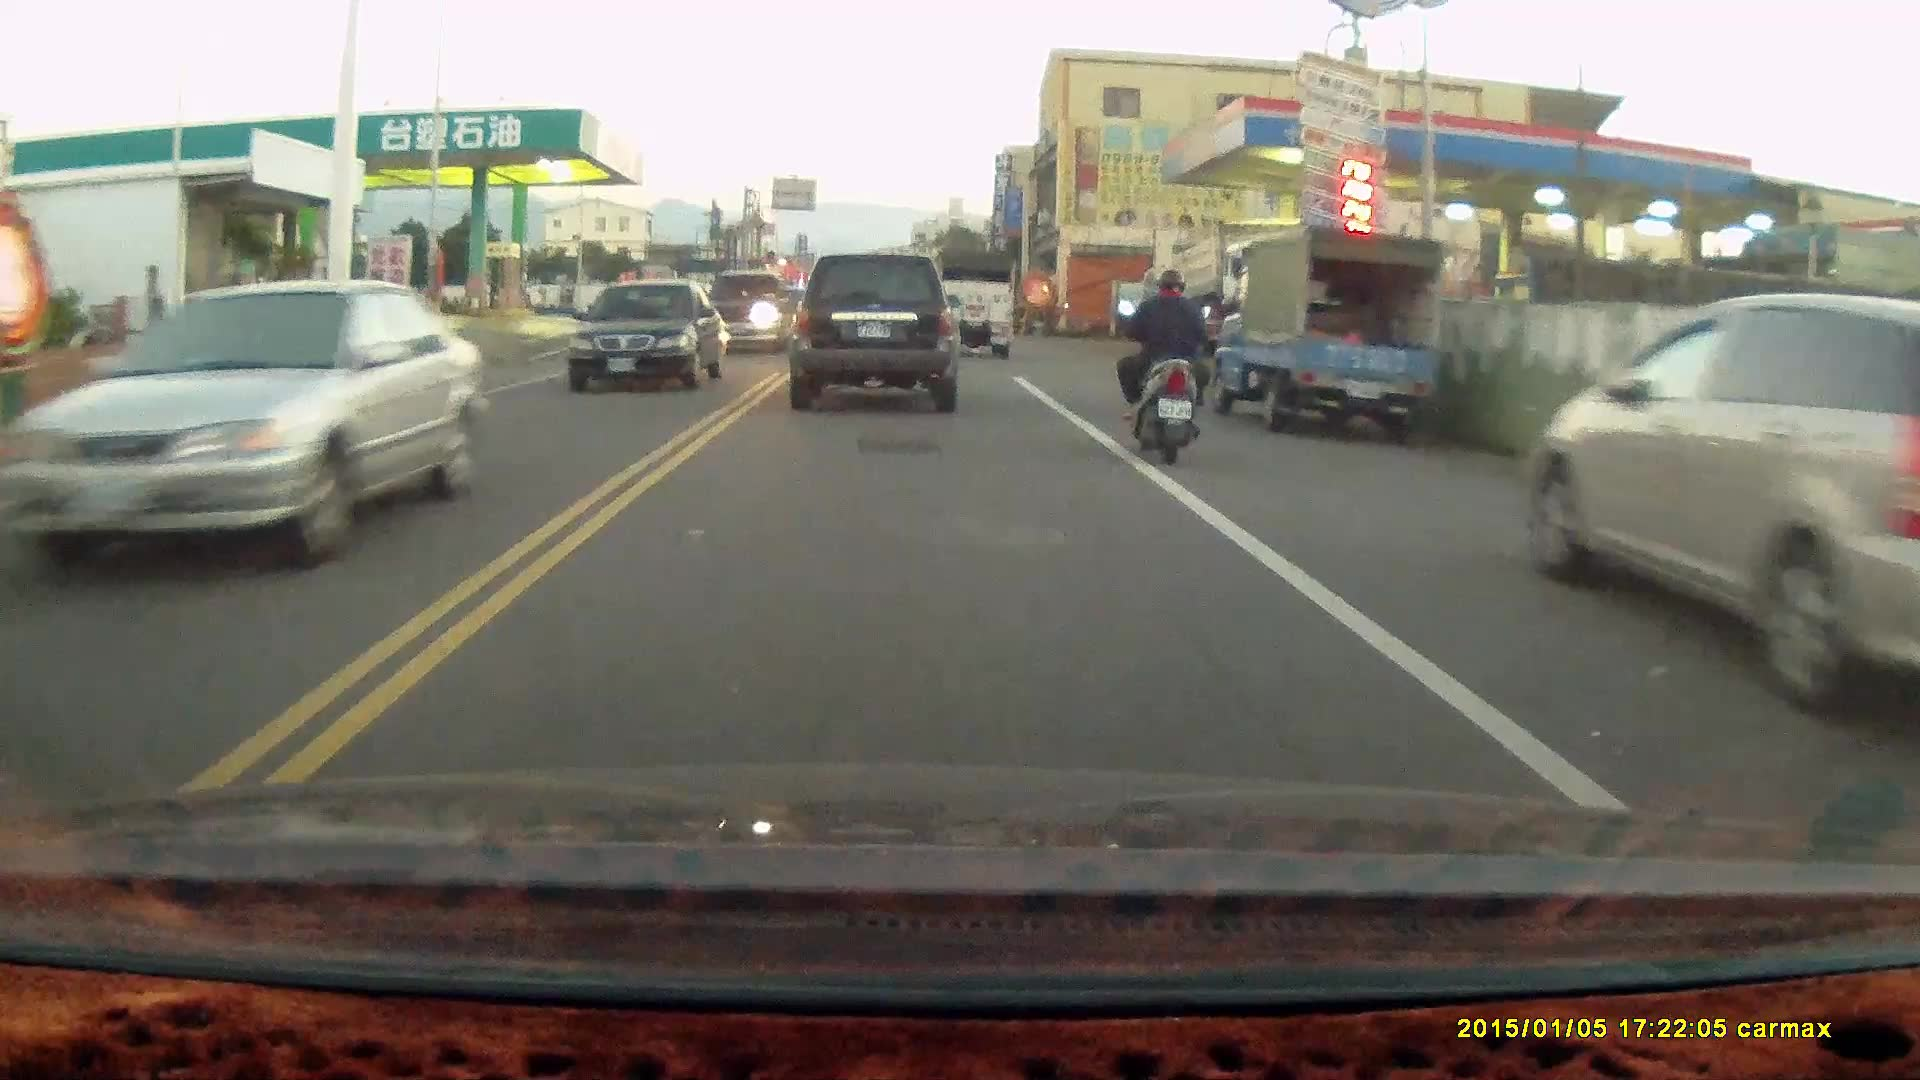rider: (1116, 270, 1217, 466)
vehicle: (1541, 293, 1920, 715), (1, 277, 481, 566), (1214, 222, 1444, 436), (787, 250, 960, 406), (569, 279, 727, 393), (922, 248, 1019, 360), (699, 268, 796, 361)
